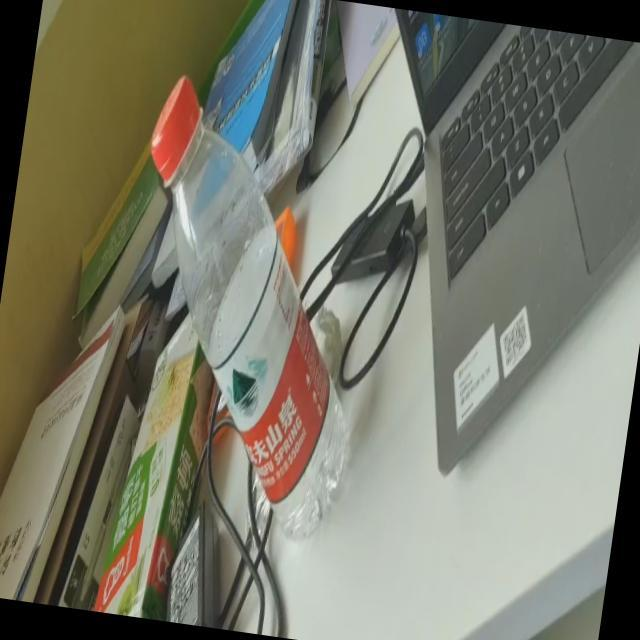good: (96, 68, 398, 555)
